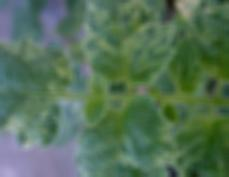Tomato leaf mosaic virus: (80, 0, 177, 88), (77, 96, 182, 177), (0, 36, 73, 152), (185, 0, 229, 93), (169, 110, 229, 177)
